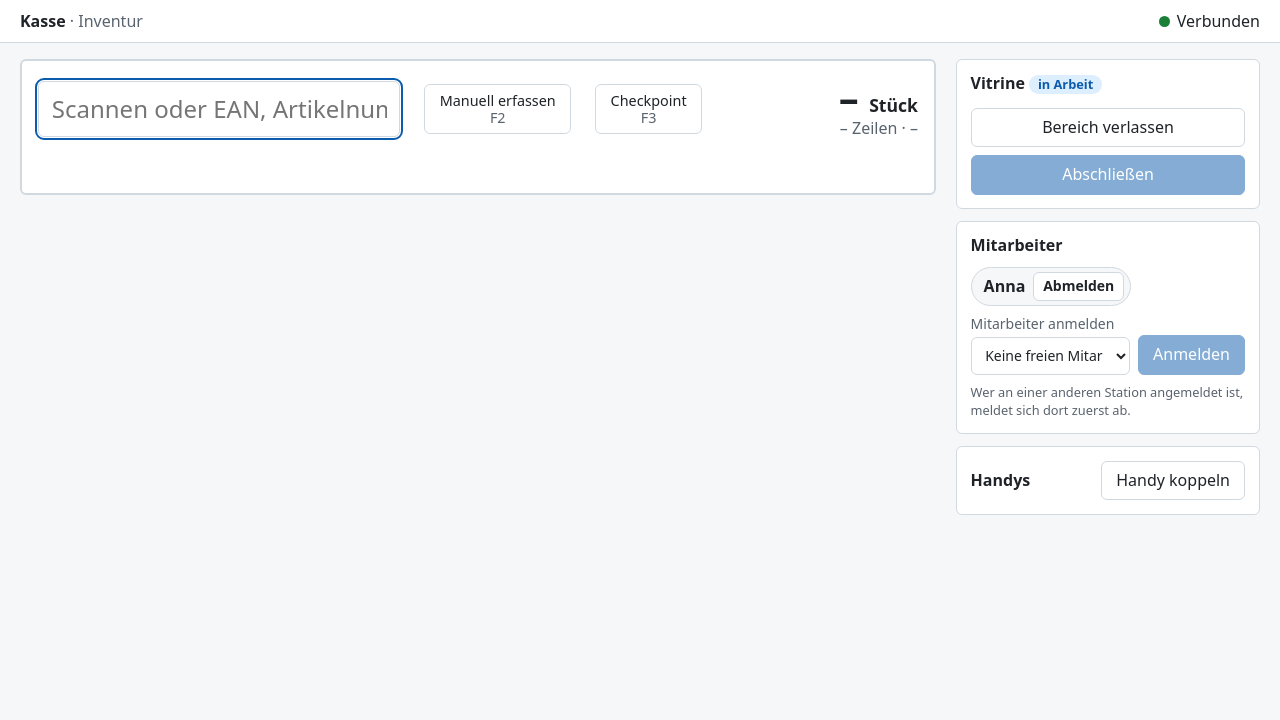
Test: capture › shows suggestions and completes a single one with Tab
Step 1. Type "Herr" into the field named "Eingabe: EAN" → (219, 109), box [38,81,400,137]
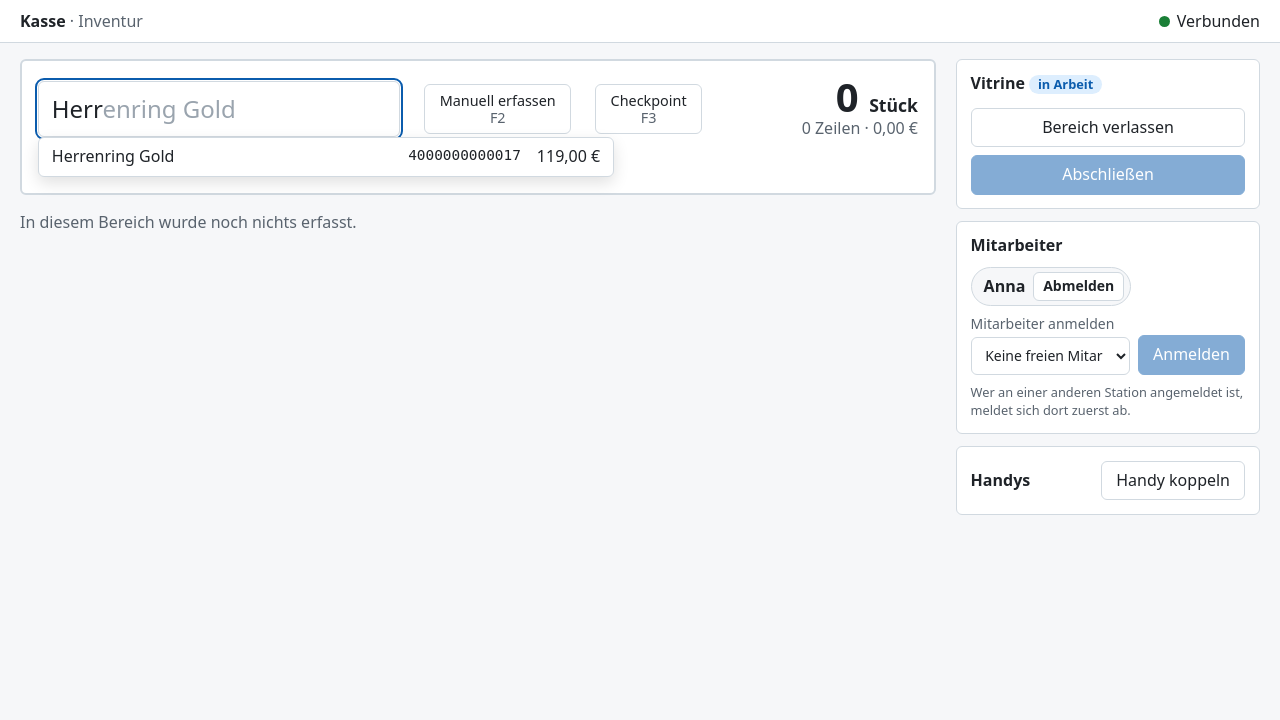
Expected: the text "Herrenring Gold" is shown, [52,145,174,167]
Expected: the element with class "ghost" reads "Herrenring Gold"
Step 2. Press Tab in the field named "Eingabe: EAN", box [38,81,400,137]
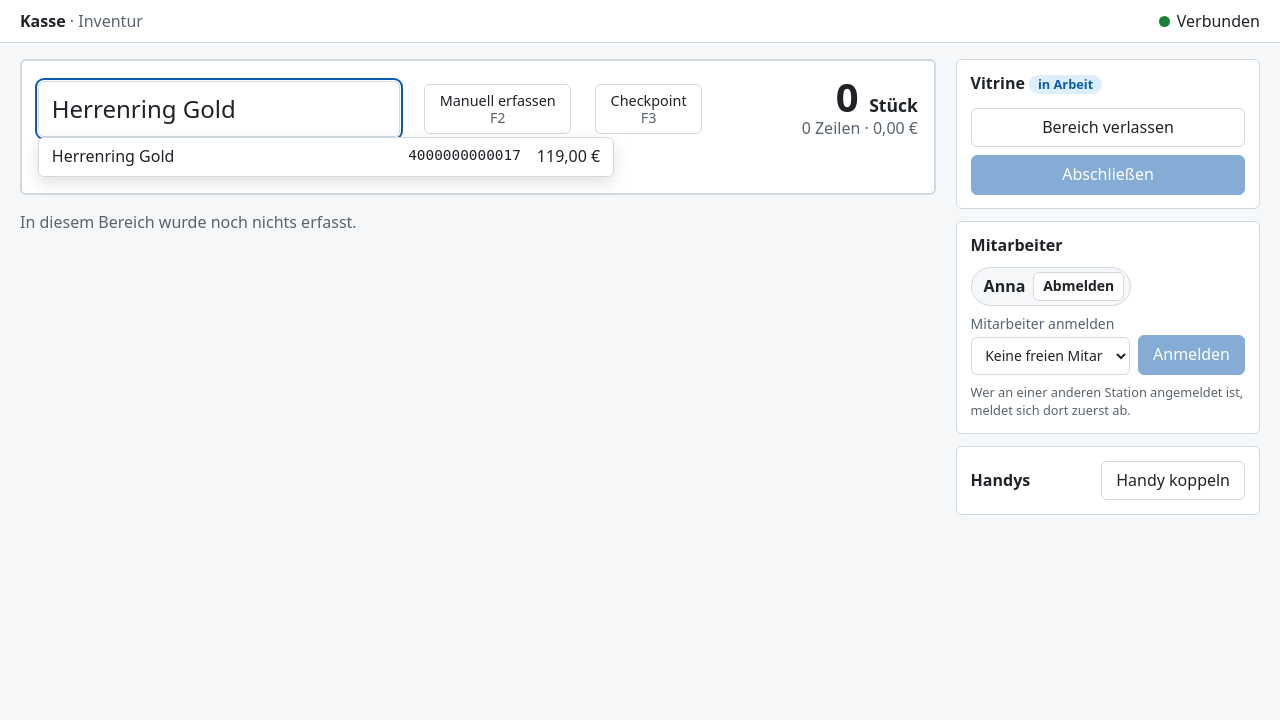
Expected: the field named "Eingabe: EAN" holds "Herrenring Gold", [38,81,400,137]
